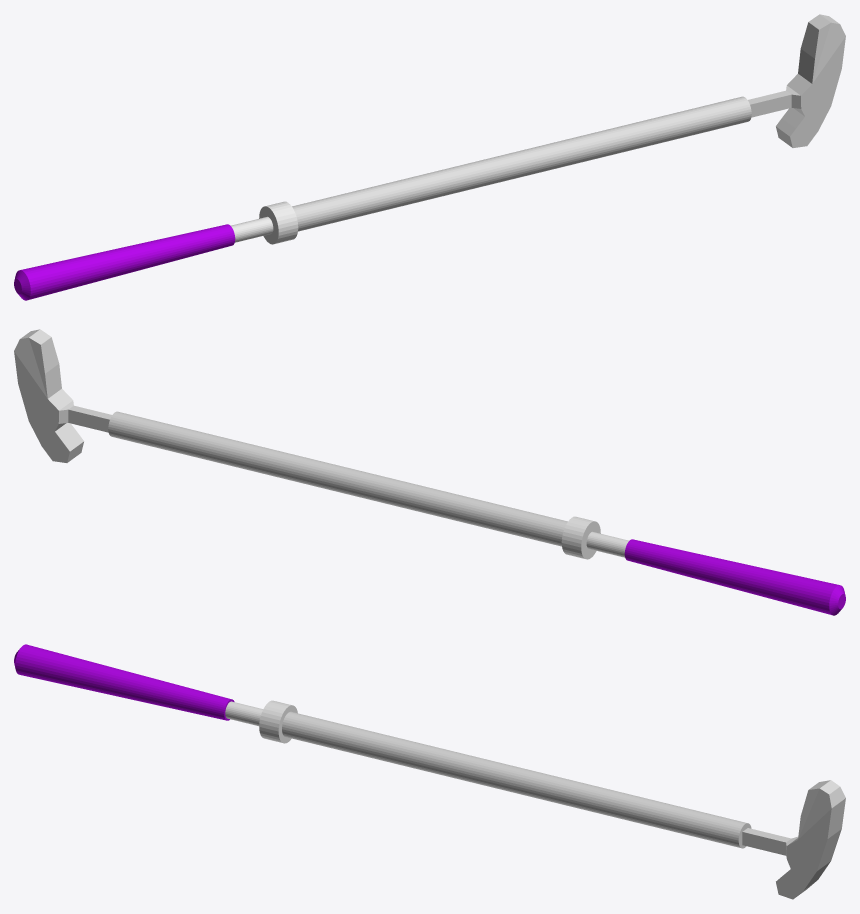
The model's file is putter.fbx.
3 renders of one model, top to bottom at view 1: azimuth 30°, elevation 25°; view 2: azimuth 150°, elevation 25°; view 3: azimuth 330°, elevation 25°, orthographic.
Parts seen in each view (by area): view 1: Cylinder.001, Cylinder, Cube; view 2: Cylinder.001, Cylinder, Cube; view 3: Cylinder.001, Cylinder, Cube.
Part boxes in pixels (<box>): Cylinder.001: <box>292,96,751,231</box>; Cylinder: <box>14,201,298,300</box>; Cube: <box>748,14,845,147</box>; Cylinder.001: <box>108,411,567,546</box>; Cylinder: <box>561,516,845,615</box>; Cube: <box>14,329,111,462</box>; Cylinder.001: <box>282,711,751,848</box>; Cylinder: <box>14,644,297,743</box>; Cube: <box>742,780,845,899</box>.
Bounding box in the file's own units: 664 × 89.86 × 27.46.
